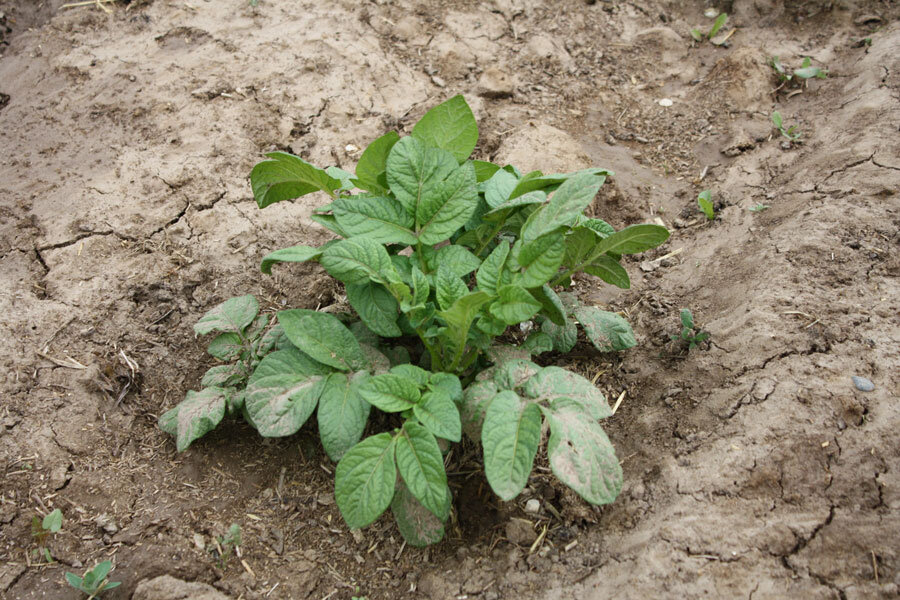potato_plant: (156, 94, 670, 544)
